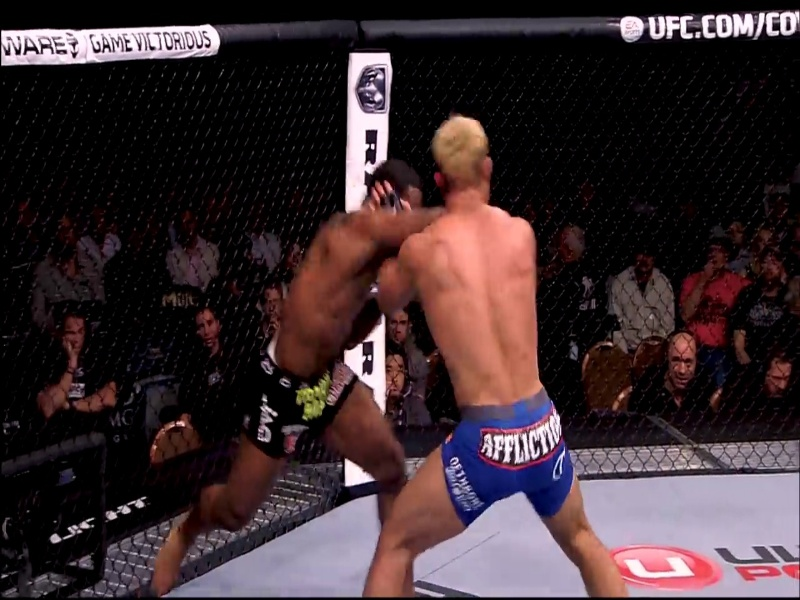fighter: (155, 160, 430, 600), (381, 113, 621, 600)
